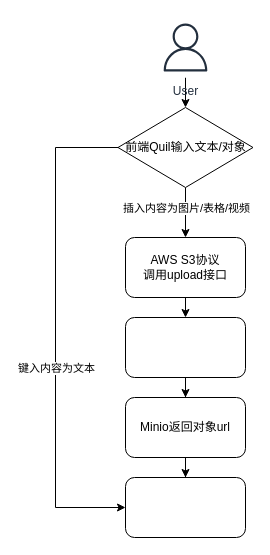
Some shapes in this 270 by 555 pixel diagram are drawn without their labels. Each missing label, with the centre of its shape:
"写入Mysql" goes at point (185, 507).
"对象存储入Mino" goes at point (185, 347).
